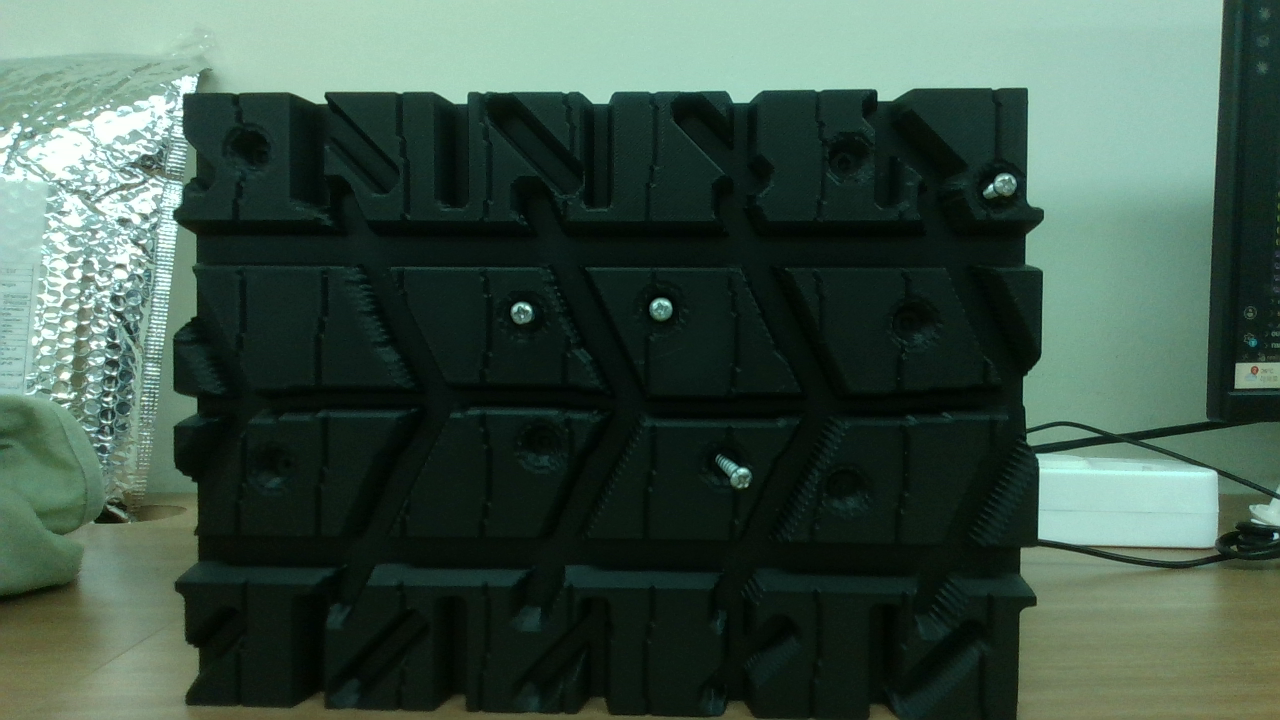screw_head: (730, 464, 756, 490), (651, 298, 675, 322), (996, 172, 1020, 196), (511, 302, 533, 324)
stud_hole: (821, 134, 871, 184), (820, 461, 870, 511), (226, 125, 272, 171), (891, 297, 937, 343), (512, 421, 556, 465), (254, 440, 298, 484)
